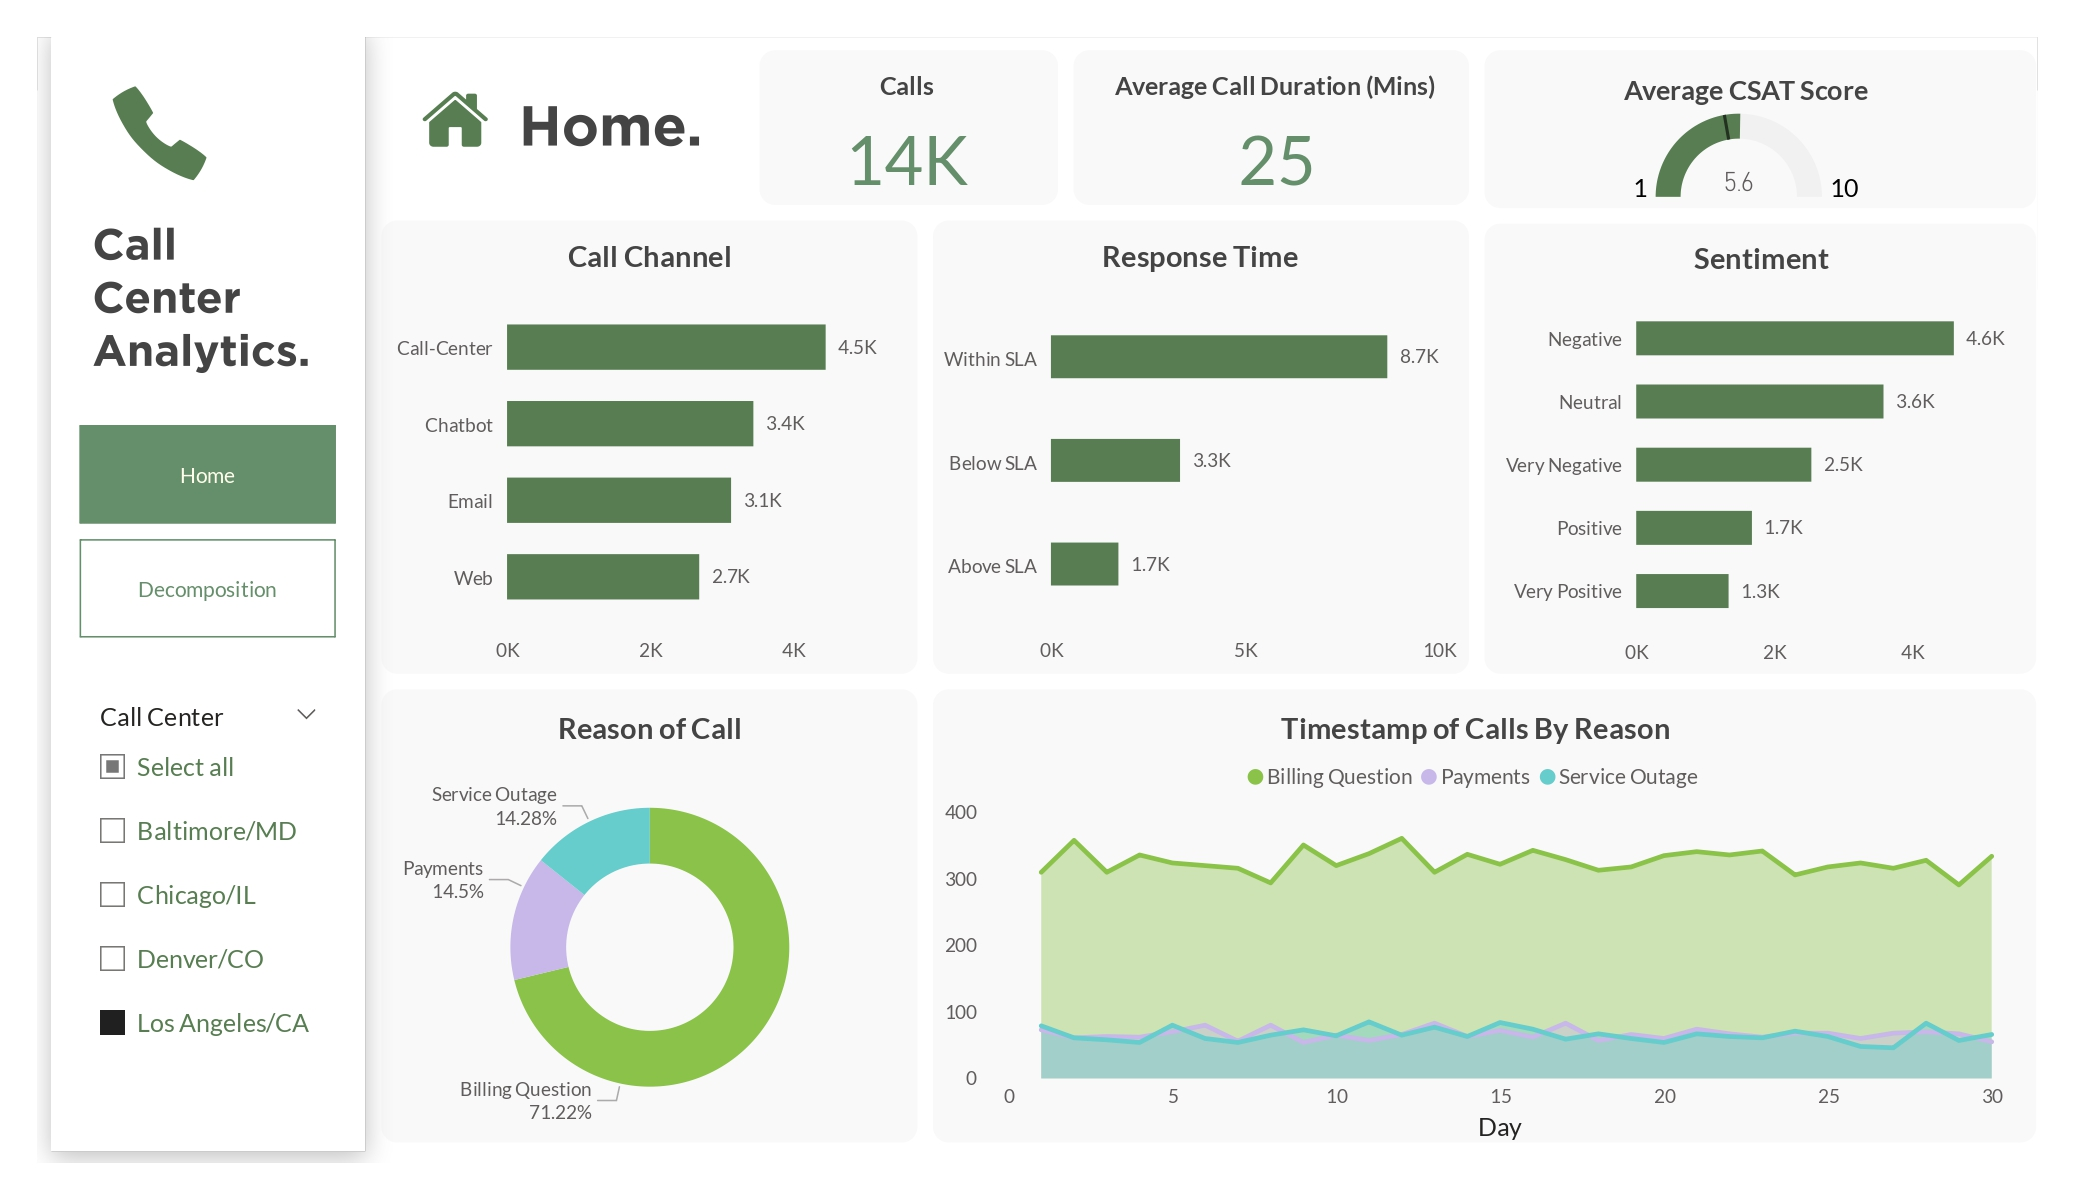

The dashboard page shown, as its layout file describes it:
{"tool":"powerbi","page":{"name":"Home","canvas":[1280,720],"ordinal":0},"visuals":[{"type":"card","fields":{"Values":["Count(Call Center.id)"]},"box":[460.6,34,191.3,86.5],"z":0},{"type":"clusteredBarChart","title":"Sentiment","fields":{"Category":["Call Center.sentiment"],"Y":["CountNonNull(Call Center.sentiment)"]},"box":[931.2,120.5,344.4,290.6],"z":1000},{"type":"areaChart","title":"Timestamp of Calls By Reason","fields":{"Category":["Call Center.call_timestamp.Variation.Date Hierarchy.Day"],"Y":["CountNonNull(Call Center.call_timestamp)"],"Series":["Call Center.reason"]},"box":[575.4,420.9,690.2,290.6],"z":2000},{"type":"pageNavigator","box":[26.9,248,164.4,136.1],"z":3000},{"type":"donutChart","title":"Reason of Call","fields":{"Category":["Call Center.reason"],"Y":["CountNonNull(Call Center.reason)"]},"box":[222.5,420.9,338.7,290.6],"z":4000},{"type":"clusteredBarChart","title":"Call Channel","fields":{"Category":["Call Center.channel"],"Y":["CountNonNull(Call Center.channel)"]},"box":[222.5,119.1,338.7,290.6],"z":5000},{"type":"clusteredBarChart","title":"Response Time","fields":{"Category":["Call Center.response_time"],"Y":["CountNonNull(Call Center.response_time)"]},"box":[572.6,119.1,343,290.6],"z":6000},{"type":"card","fields":{"Values":["Call Center.AverageCallTime"]},"box":[664.7,34,256.5,86.5],"z":7000},{"type":"slicer","fields":{"Values":["Call Center.call_center"]},"box":[26.9,420,164.4,246.6],"z":8000},{"type":"gauge","title":"Average CSAT Score","fields":{"TargetValue":["Call Center.CSATarget"],"Y":["Call Center.AvgCSATScore"]},"box":[921.3,12.8,344.4,99.2],"z":9000},{"type":"textbox","box":[460.6,15.6,191.3,39.7],"z":10000},{"type":"textbox","box":[669,15,246.6,39.7],"z":11000}]}

Visuals, with their boxes in screenshot pixels (x1, y1, x2, y2):
card - Count(Call Center.id): Rect(757, 91, 1056, 226)
"Sentiment" clusteredBarChart: Rect(1492, 226, 2031, 680)
"Timestamp of Calls By Reason" areaChart: Rect(937, 695, 2015, 1149)
pageNavigator: Rect(80, 425, 336, 638)
"Reason of Call" donutChart: Rect(385, 695, 914, 1149)
"Call Channel" clusteredBarChart: Rect(385, 224, 914, 678)
"Response Time" clusteredBarChart: Rect(932, 224, 1468, 678)
card - Call Center.AverageCallTime: Rect(1076, 91, 1477, 226)
slicer - Call Center.call_center: Rect(80, 694, 336, 1079)
"Average CSAT Score" gauge: Rect(1477, 58, 2015, 212)
textbox: Rect(757, 62, 1056, 124)
textbox: Rect(1083, 61, 1468, 123)
